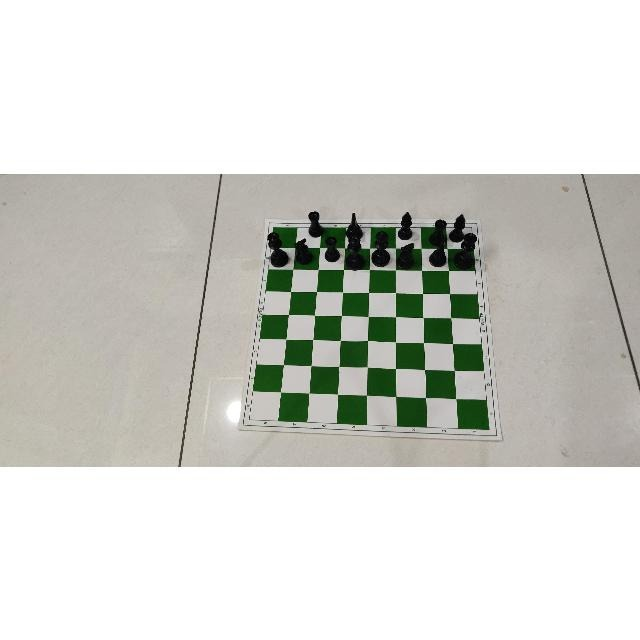black-bishop: (399, 210, 414, 239), (451, 213, 467, 239)
black-king: (454, 233, 477, 268), (370, 228, 391, 266)
black-knight: (424, 244, 450, 268), (344, 212, 363, 240), (293, 238, 313, 264), (395, 244, 415, 268)
black-queen: (267, 229, 290, 269), (346, 235, 364, 268)
black-rook: (305, 207, 324, 236), (428, 217, 448, 244), (323, 234, 341, 261)
